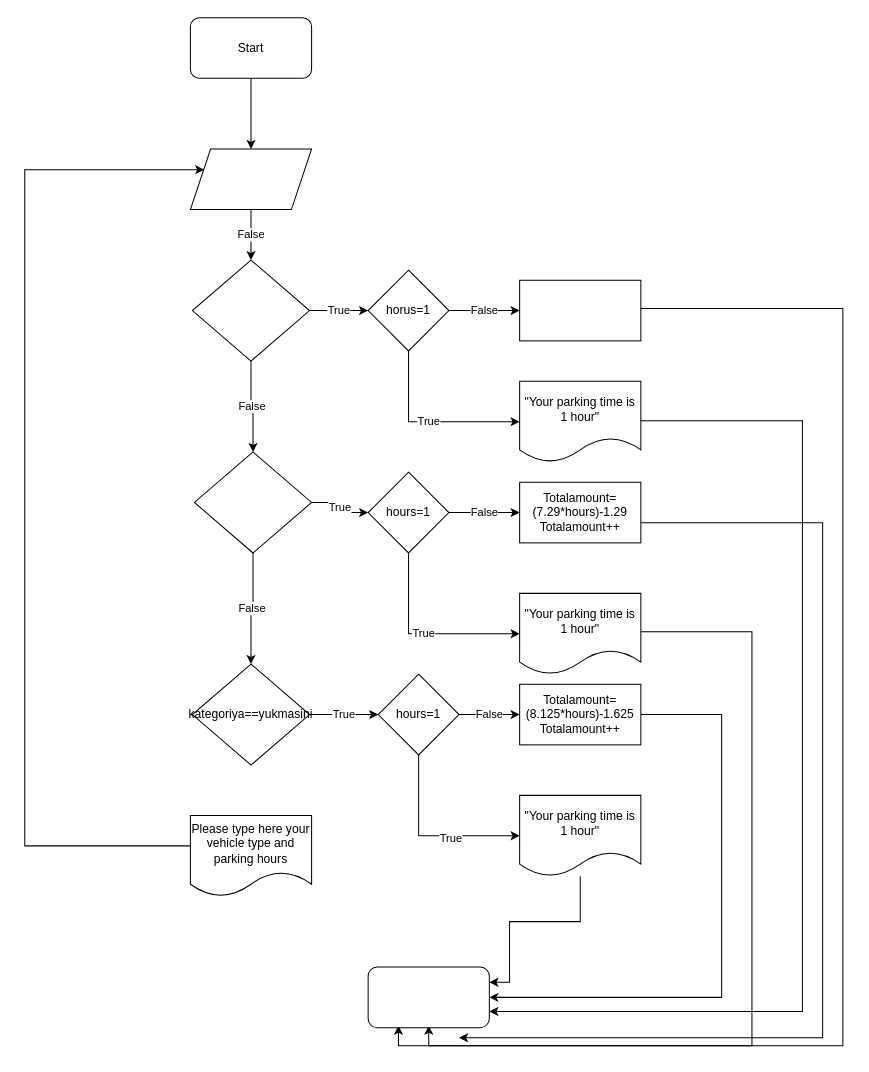
This 869x1072 diagram has some shape labels left out. Each missing label, with the box of its shape:
End: (367, 966, 489, 1028)
kategoriya==avtobus: (193, 451, 312, 553)
kategoriya==taksi: (191, 259, 310, 361)
kategoriya=? hours=? Totalamount=0: (189, 148, 312, 210)
Totalamount=(6*hours)-1 Totalamount++: (519, 279, 641, 341)
